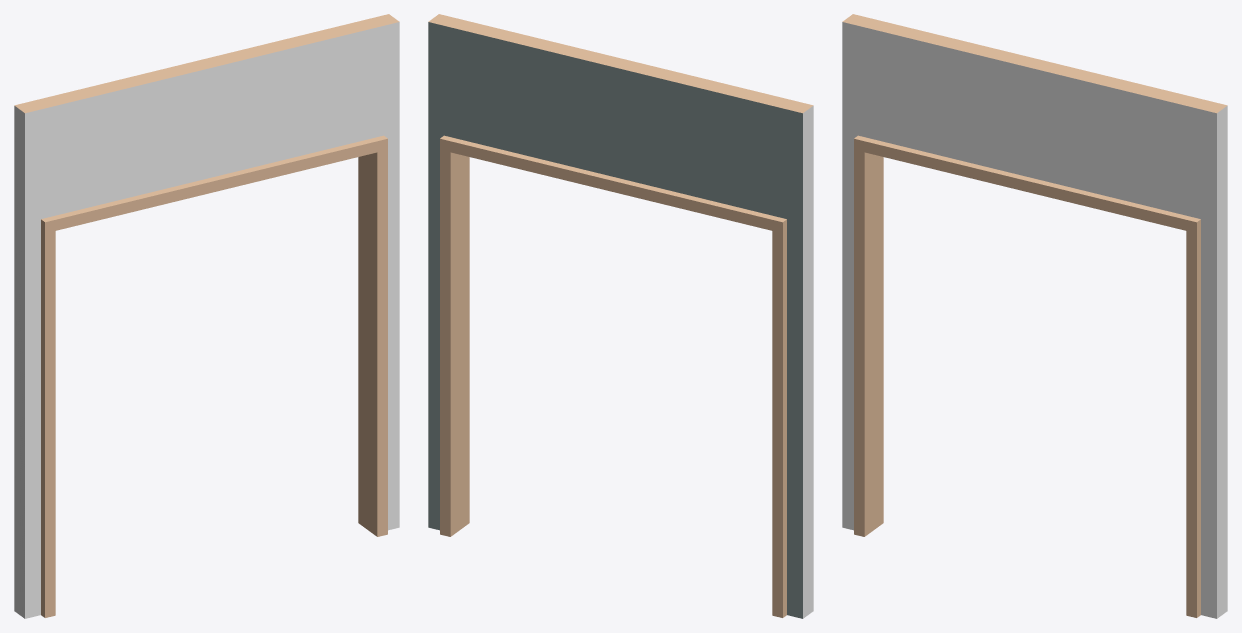
Rendered from wallDoorwayWide.glb.
The picture shows the model from 3 angles, left to right: view 1: azimuth 30°, elevation 25°; view 2: azimuth 150°, elevation 25°; view 3: azimuth 330°, elevation 25°; orthographic projection.
Visible parts, largest first — view 1: wallDoorwayWide(Clone); view 2: wallDoorwayWide(Clone); view 3: wallDoorwayWide(Clone).
Part boxes in pixels (x1=…): wallDoorwayWide(Clone): x1=14, y1=14, x2=399, y2=618; wallDoorwayWide(Clone): x1=428, y1=14, x2=813, y2=618; wallDoorwayWide(Clone): x1=842, y1=14, x2=1227, y2=618.
Bounding box in the file's own units: 1 × 1.29 × 0.0891.
